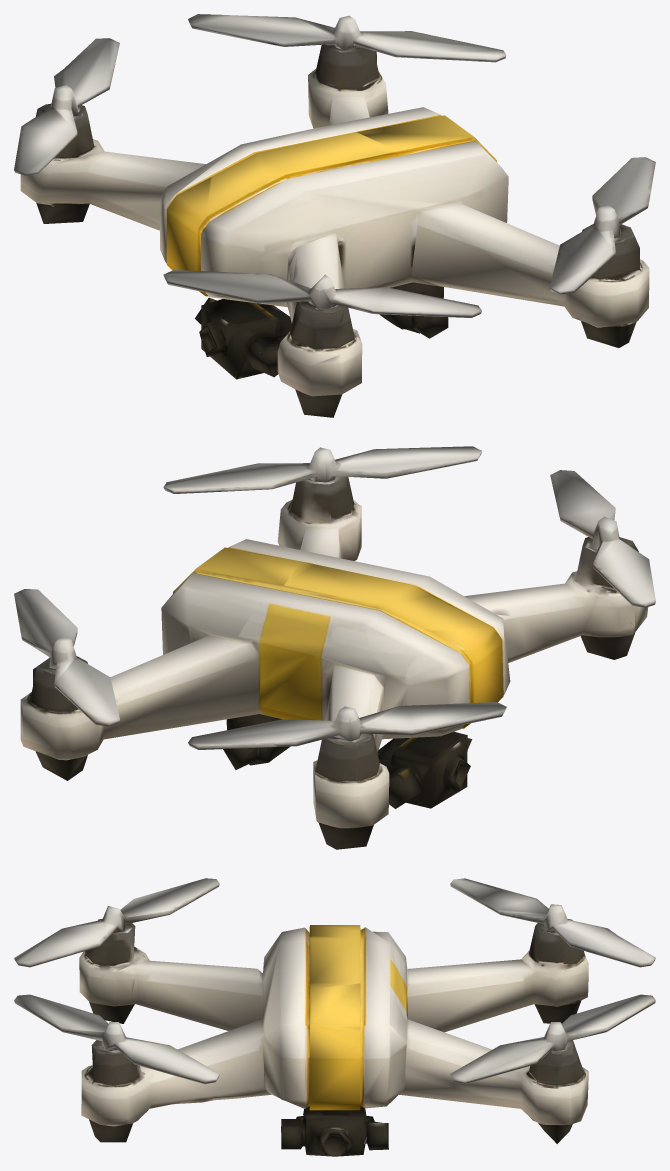
File: drone.glb
3 views of the same model, one above another, from view 1: azimuth 30°, elevation 25°; view 2: azimuth 150°, elevation 25°; view 3: azimuth 270°, elevation 25° (orthographic). The views are drawn at different scales.
Visible parts, largest first — view 1: node_0; view 2: node_0; view 3: node_0.
Boxes of the visible parts, left/top/right/bottom form: node_0: left=14, top=14, right=655, bottom=417; node_0: left=14, top=446, right=655, bottom=849; node_0: left=14, top=878, right=655, bottom=1156.
Bounding box in the file's own units: 0.8659 × 0.3283 × 1.15.
Materials: 1 (1 with a texture image).
